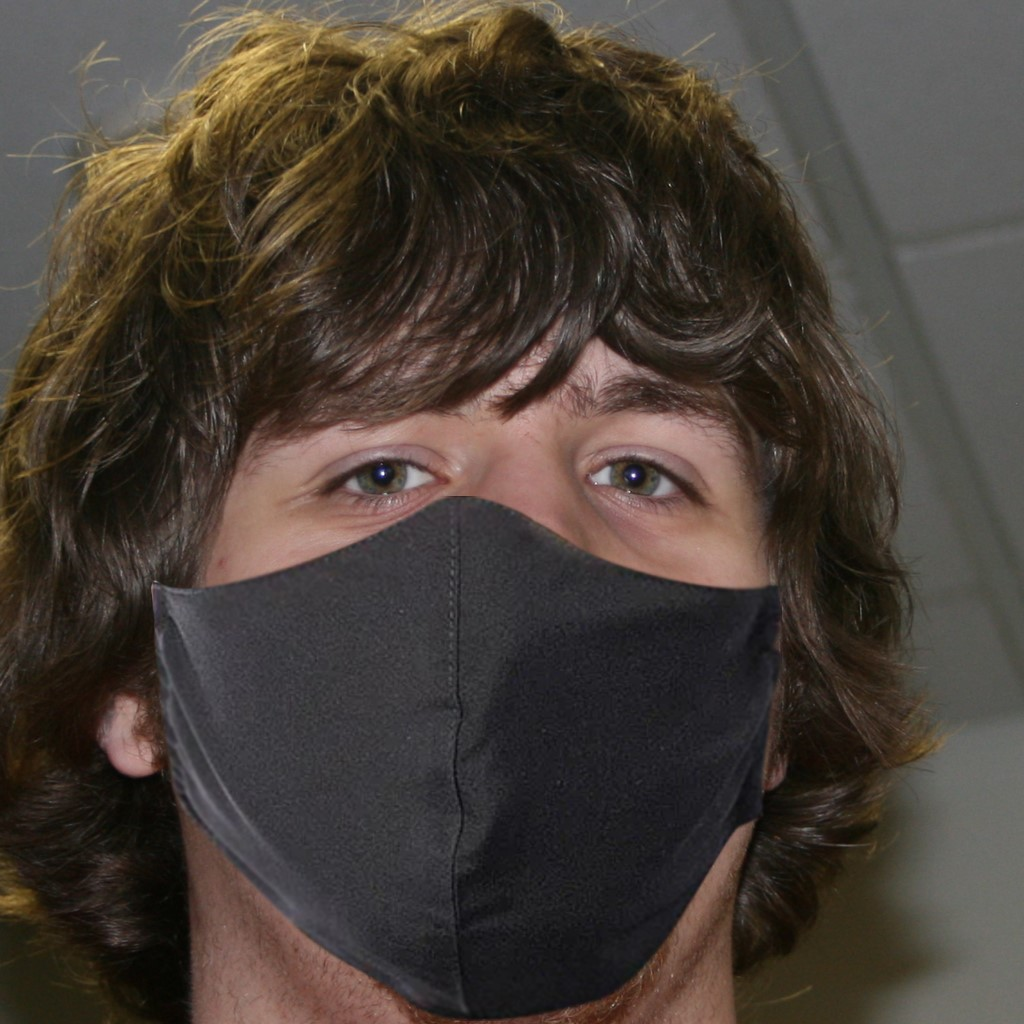con_mascara: (143, 226, 802, 991)
